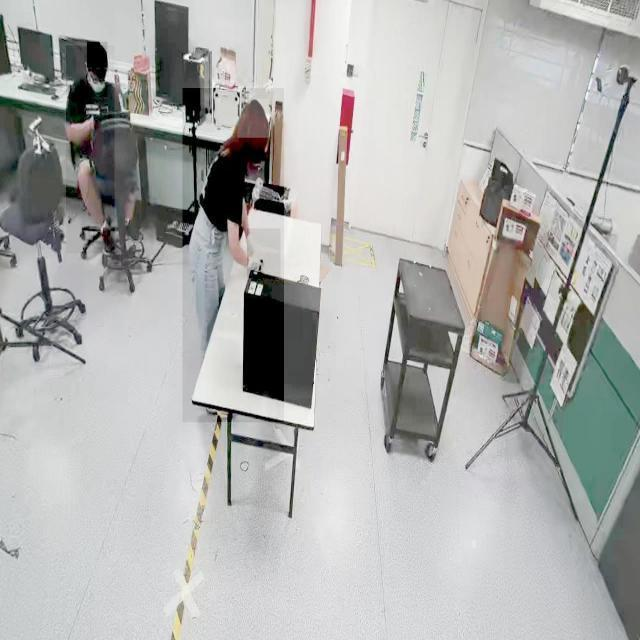gloves: (247, 228, 281, 278)
